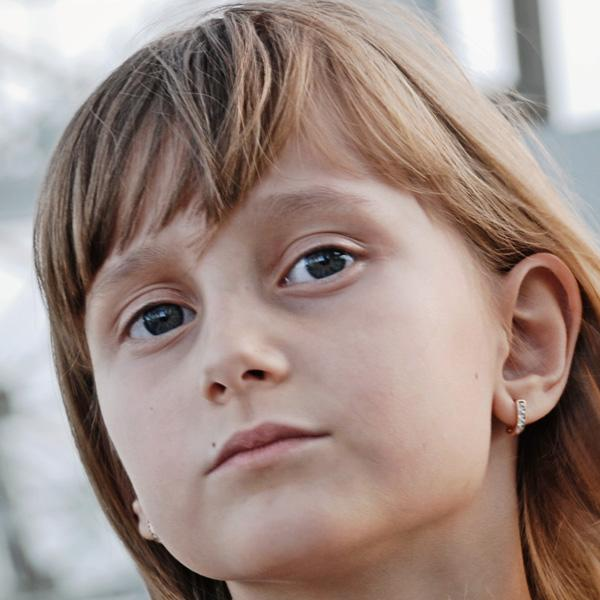Eyes: (266, 221, 381, 308), (108, 276, 204, 362)
